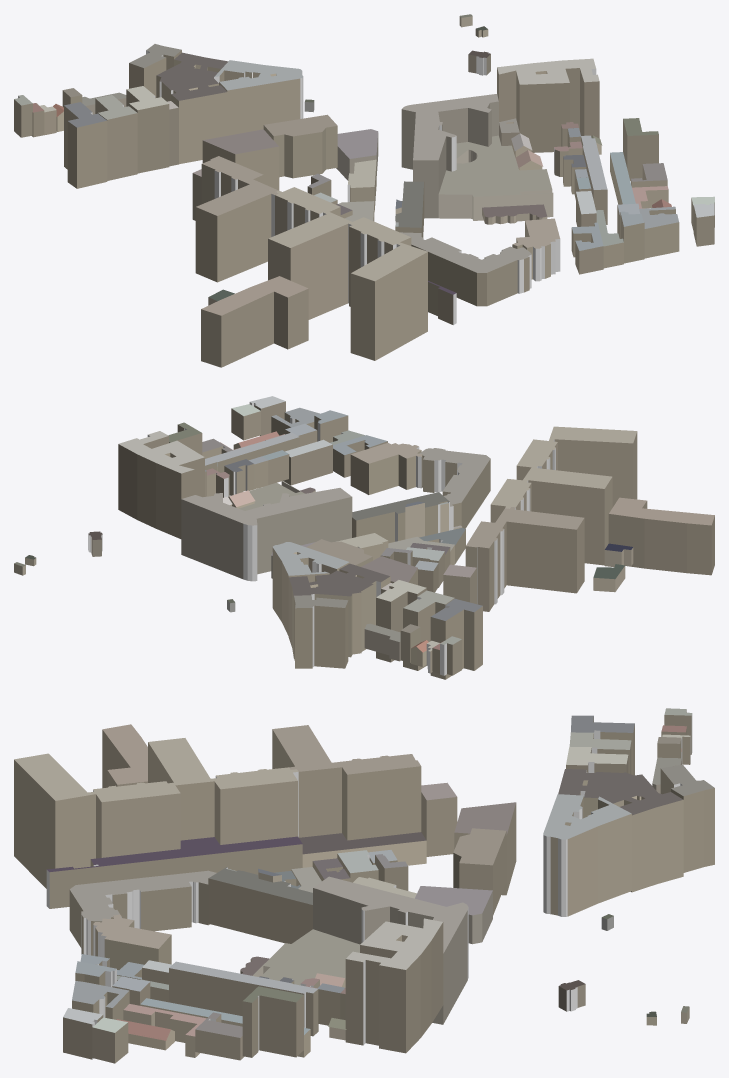
3 renders of one model, top to bottom at view 1: azimuth 30°, elevation 25°; view 2: azimuth 150°, elevation 25°; view 3: azimuth 270°, elevation 25°, orthographic. The views are drawn at different scales.
Visible parts, largest first — view 1: tuile; view 2: tuile; view 3: tuile.
Boxes of the visible parts, <box> form: tuile: <box>14,14,714,367</box>; tuile: <box>14,396,714,679</box>; tuile: <box>14,708,714,1063</box>.
Bounding box in the file's own units: 281 × 50.94 × 276.
